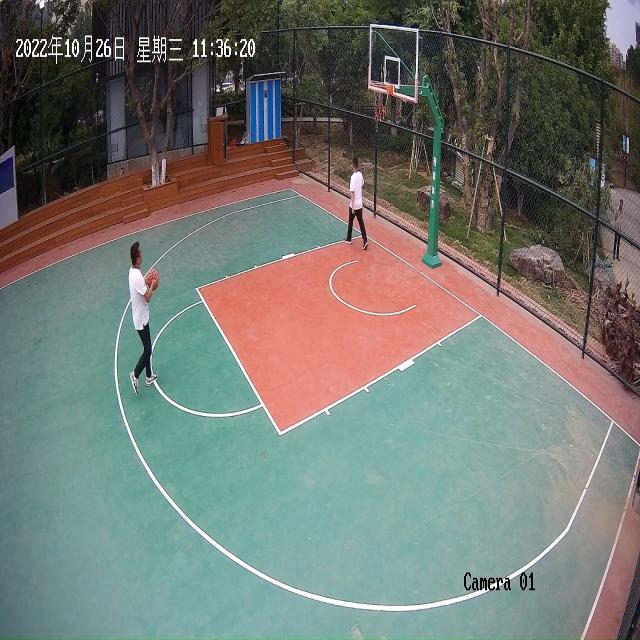rim: (149, 268, 159, 284)
